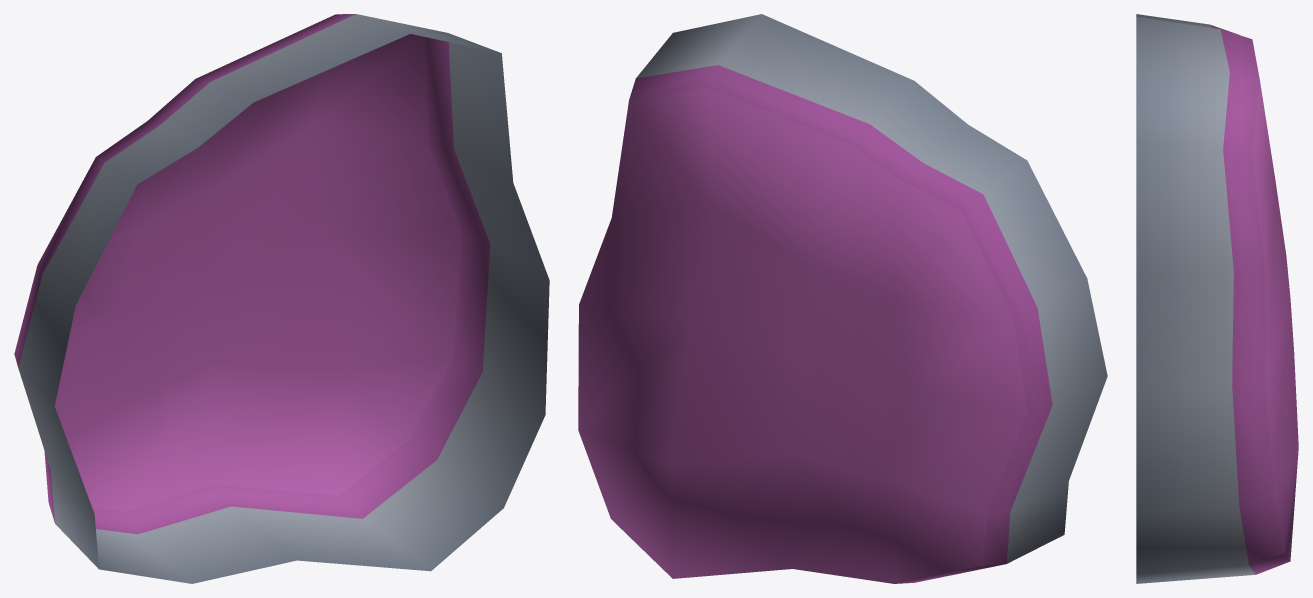
Rendered from Platform 01.FBX.
3 renders of one model, left to right at view 1: azimuth 30°, elevation 25°; view 2: azimuth 150°, elevation 25°; view 3: azimuth 270°, elevation 25°, orthographic. The views are drawn at different scales.
Visible parts, largest first — view 1: Platform 01; view 2: Platform 01; view 3: Platform 01.
Boxes of the visible parts, x1,y1,x2,y2 form: Platform 01: [14, 14, 549, 583]; Platform 01: [578, 14, 1107, 583]; Platform 01: [1136, 14, 1298, 583].
Bounding box in the file's own units: 854 × 894 × 256.
Materials: 1 (1 with a texture image).
